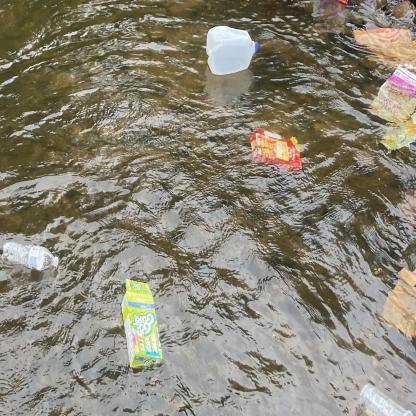trash: (116, 275, 165, 376), (348, 24, 416, 77), (244, 124, 306, 180), (204, 22, 260, 78), (368, 66, 416, 126), (381, 266, 416, 344), (0, 238, 61, 275), (356, 380, 416, 415), (377, 112, 416, 154), (311, 0, 353, 21)
